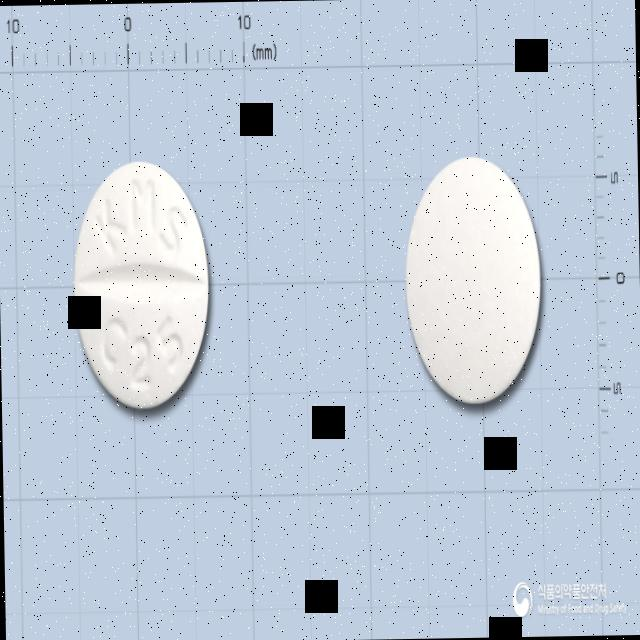Cyspec: (71, 158, 212, 412)
